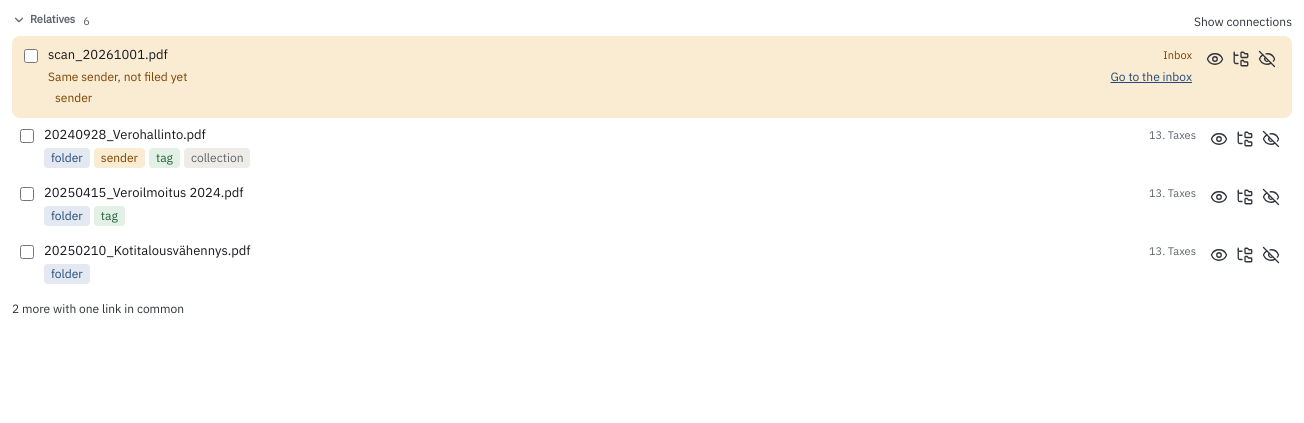
it: the action bar › hides the link buttons when links cannot be made here
Click the checkbox named "Select 20240928_Verohallinto.pdf". click: (27, 136)
box: 20,129 -> 34,143
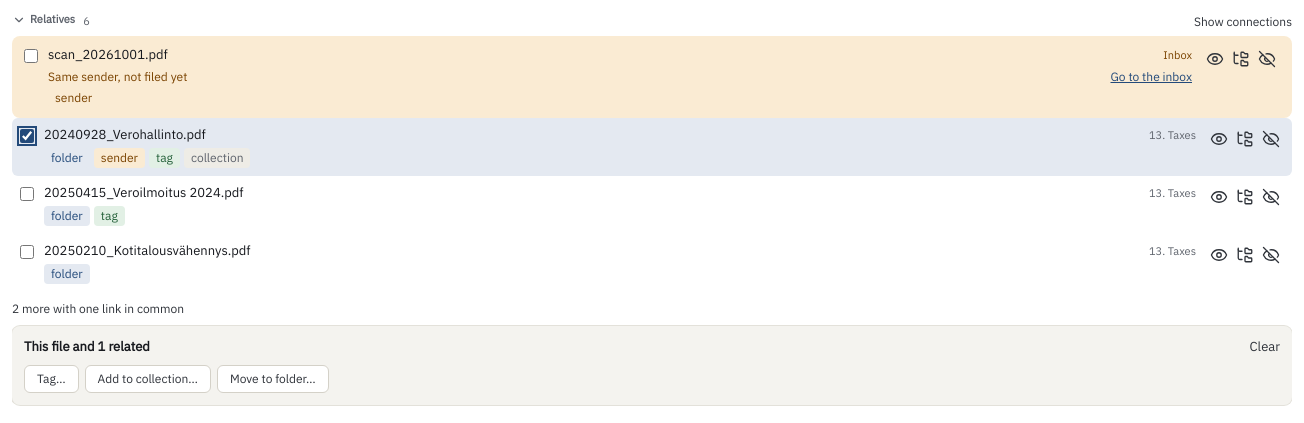
Check: the button "Tag…" is shown, box 24,365 -> 79,393
